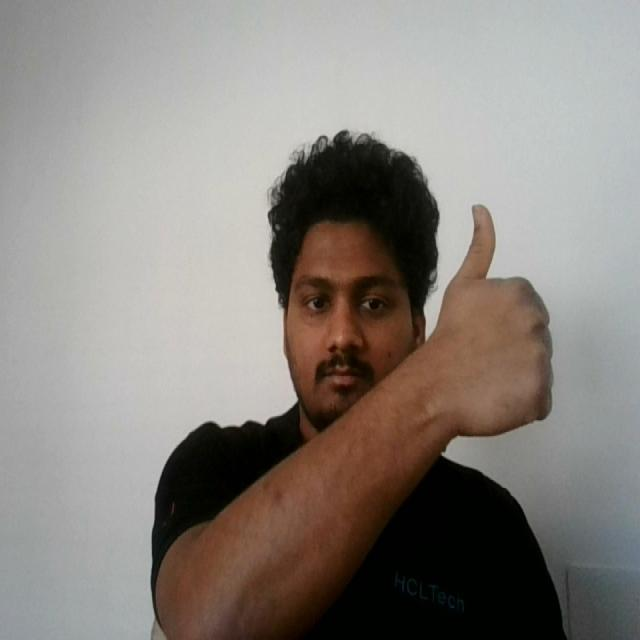Yes: (414, 194, 562, 452)
